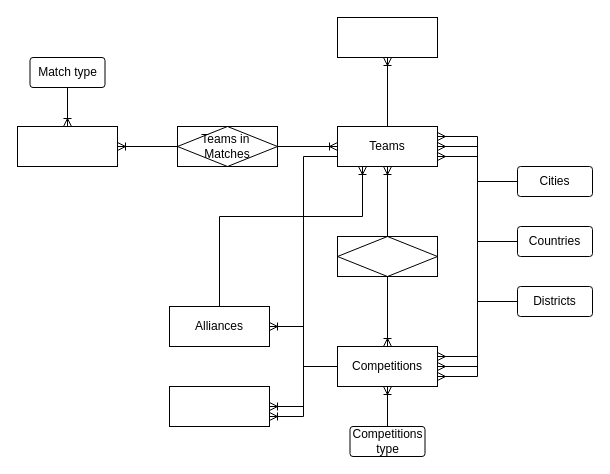
The diagram is 610 pixels wide and 474 high, and some of its shapes have lost their labels. The shapes that lost their labels are listed below. From the top down, each one's centre as x and y in pixels, then its label:
point (387, 37): Pits
point (67, 146): Matches
point (387, 256): Teams in Competitions
point (219, 406): Awards
